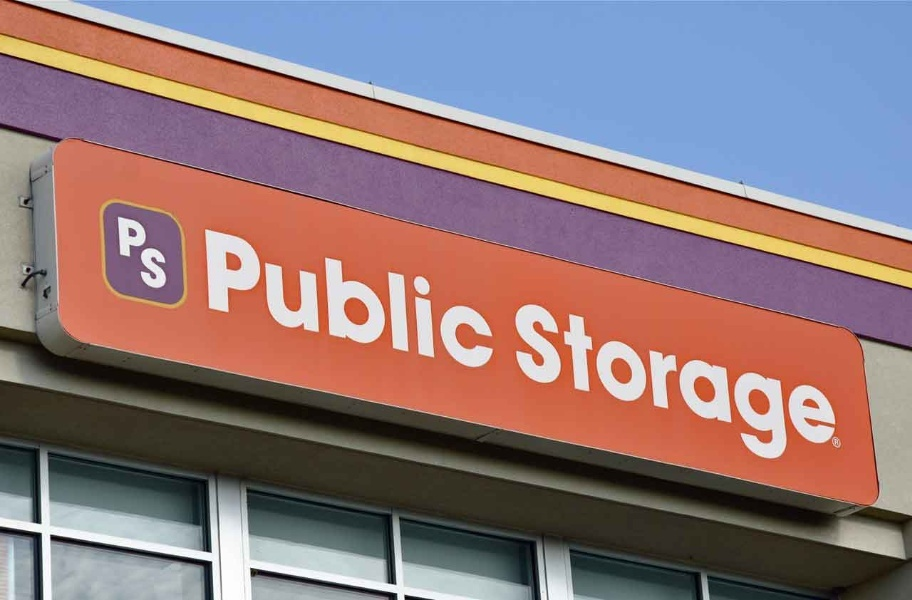text: (529, 296, 544, 479), (545, 296, 560, 479), (561, 296, 576, 479), (577, 296, 592, 479), (593, 296, 608, 479), (609, 296, 624, 479), (625, 296, 640, 479), (641, 296, 656, 479), (657, 296, 672, 479), (673, 296, 688, 479), (689, 296, 704, 479), (705, 296, 720, 479), (721, 296, 736, 479), (737, 296, 752, 479), (753, 296, 768, 479), (769, 296, 784, 479), (785, 296, 800, 479), (801, 296, 816, 479), (817, 296, 832, 479), (514, 296, 528, 479), (209, 223, 224, 374), (225, 223, 240, 374), (241, 223, 256, 374), (257, 223, 272, 374), (273, 223, 288, 374), (289, 223, 304, 374), (305, 223, 320, 374), (321, 223, 336, 374), (337, 223, 352, 374), (353, 223, 368, 374), (369, 223, 384, 374), (385, 223, 400, 374), (401, 223, 416, 374), (417, 223, 432, 374), (433, 223, 448, 374), (449, 223, 464, 374), (465, 223, 480, 374), (481, 223, 496, 374), (833, 296, 842, 479), (200, 223, 208, 374), (129, 214, 144, 261), (145, 246, 160, 290), (117, 214, 128, 261), (497, 223, 500, 374), (161, 246, 171, 290), (138, 246, 144, 290), (834, 439, 848, 447), (145, 214, 147, 261)
